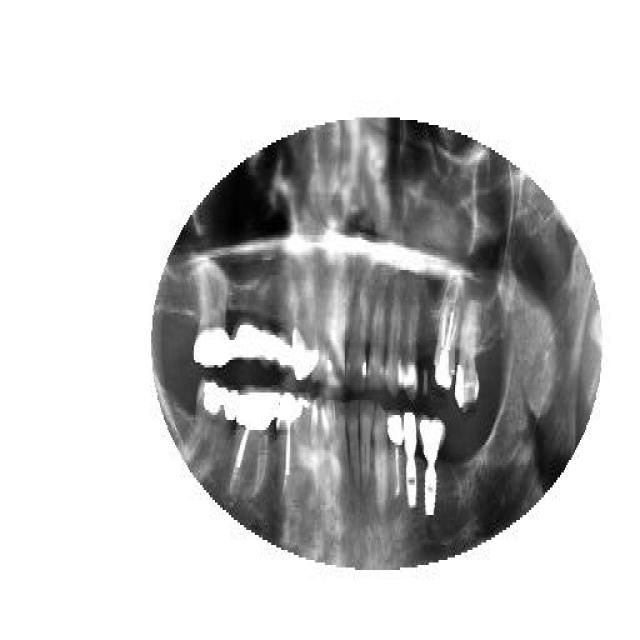Fillings: (190, 380, 235, 478), (192, 282, 230, 370), (455, 297, 480, 415), (292, 318, 318, 380), (231, 312, 261, 358), (295, 395, 313, 453), (277, 318, 295, 372), (260, 310, 276, 368)
Implant: (230, 387, 278, 495), (422, 408, 448, 522), (434, 268, 456, 390), (401, 408, 420, 512), (279, 390, 296, 495), (387, 408, 402, 508)
